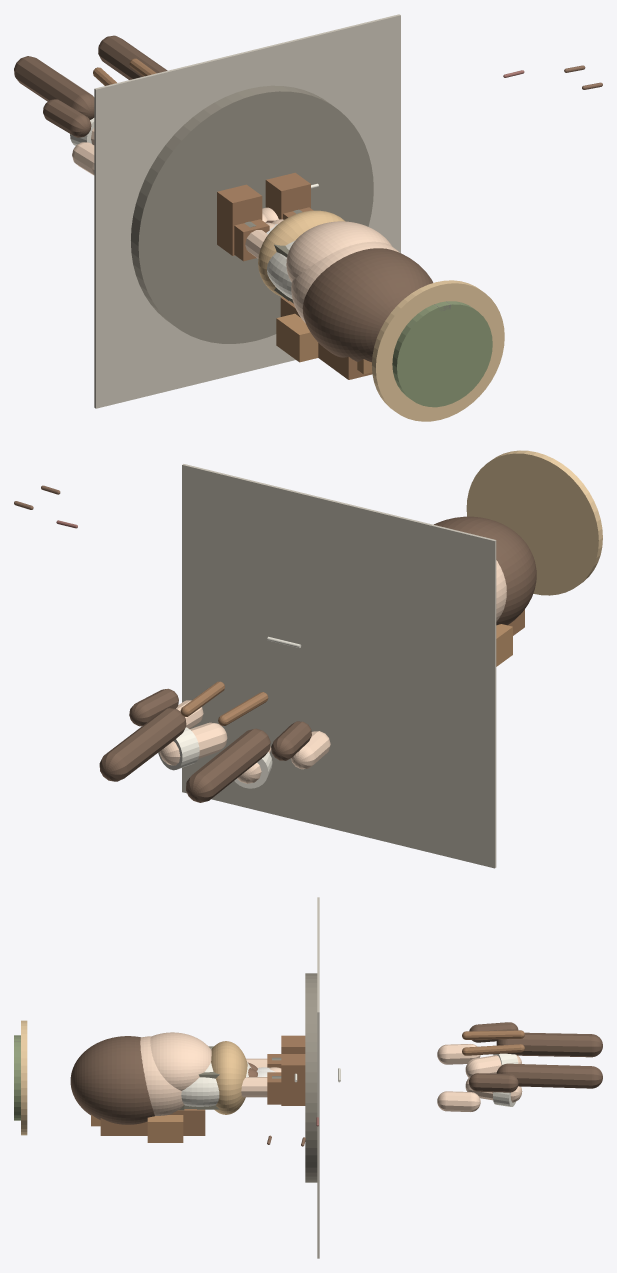
Rendered from character.glb.
3 views of the same model, one above another, from view 1: azimuth 30°, elevation 25°; view 2: azimuth 150°, elevation 25°; view 3: azimuth 270°, elevation 25° (orthographic). The views are drawn at different scales.
Visible parts, largest first — view 1: Ground, DisplayBase, HairBack, HatBand, HatBrim, Face, L_HairLock, L_BootFoot, HatCrown, R_BootFoot, L_PackPouch, Head (+6 smaller); view 2: Ground, HatBrim, HairBack, R_HairLock, L_HairLock, R_UpperArm, L_HairTip, R_HairTip, R_Forearm, R_Sleeve, L_ShoulderStrap, L_PackPouch (+1 smaller); view 3: HairBack, DisplayBase, Face, R_HairLock, L_HairLock, HatCrown, Head, BackpackMain, R_BootFoot, Ground, Torso, R_PackPouch (+9 smaller).
Part boxes in pixels (left/top/right/bottom): Ground: left=94, top=14, right=400, bottom=408; DisplayBase: left=131, top=85, right=373, bottom=343; HairBack: left=302, top=248, right=433, bottom=362; HatBand: left=392, top=301, right=492, bottom=407; HatBrim: left=372, top=280, right=504, bottom=421; Face: left=286, top=221, right=391, bottom=281; L_HairLock: left=14, top=56, right=94, bottom=119; L_BootFoot: left=217, top=184, right=262, bottom=255; HatCrown: left=258, top=210, right=345, bottom=296; R_BootFoot: left=265, top=172, right=310, bottom=219; L_PackPouch: left=276, top=313, right=318, bottom=362; Head: left=291, top=241, right=399, bottom=323; Ground: left=182, top=464, right=496, bottom=868; HatBrim: left=466, top=450, right=602, bottom=595; HairBack: left=434, top=516, right=536, bottom=625; R_HairLock: left=99, top=708, right=186, bottom=781; L_HairLock: left=186, top=728, right=270, bottom=802; R_UpperArm: left=159, top=722, right=227, bottom=765; L_HairTip: left=129, top=688, right=178, bottom=726; R_HairTip: left=271, top=721, right=311, bottom=760; R_Forearm: left=291, top=731, right=330, bottom=769; R_Sleeve: left=158, top=727, right=199, bottom=770; L_ShoulderStrap: left=218, top=692, right=268, bottom=725; L_PackPouch: left=496, top=624, right=512, bottom=666; HairBack: left=70, top=1036, right=154, bottom=1124; DisplayBase: left=305, top=973, right=317, bottom=1182; Face: left=150, top=1032, right=211, bottom=1090; R_HairLock: left=496, top=1063, right=602, bottom=1088; L_HairLock: left=496, top=1032, right=602, bottom=1057; HatCrown: left=211, top=1041, right=247, bottom=1114; Head: left=140, top=1036, right=184, bottom=1115; BackpackMain: left=100, top=1109, right=205, bottom=1135; R_BootFoot: left=281, top=1054, right=305, bottom=1105; Ground: left=317, top=897, right=319, bottom=1258; Torso: left=181, top=1048, right=251, bottom=1106; R_PackPouch: left=147, top=1115, right=183, bottom=1142.
Bounding box in the file's own units: 5.5 × 3.5 × 7.58.
